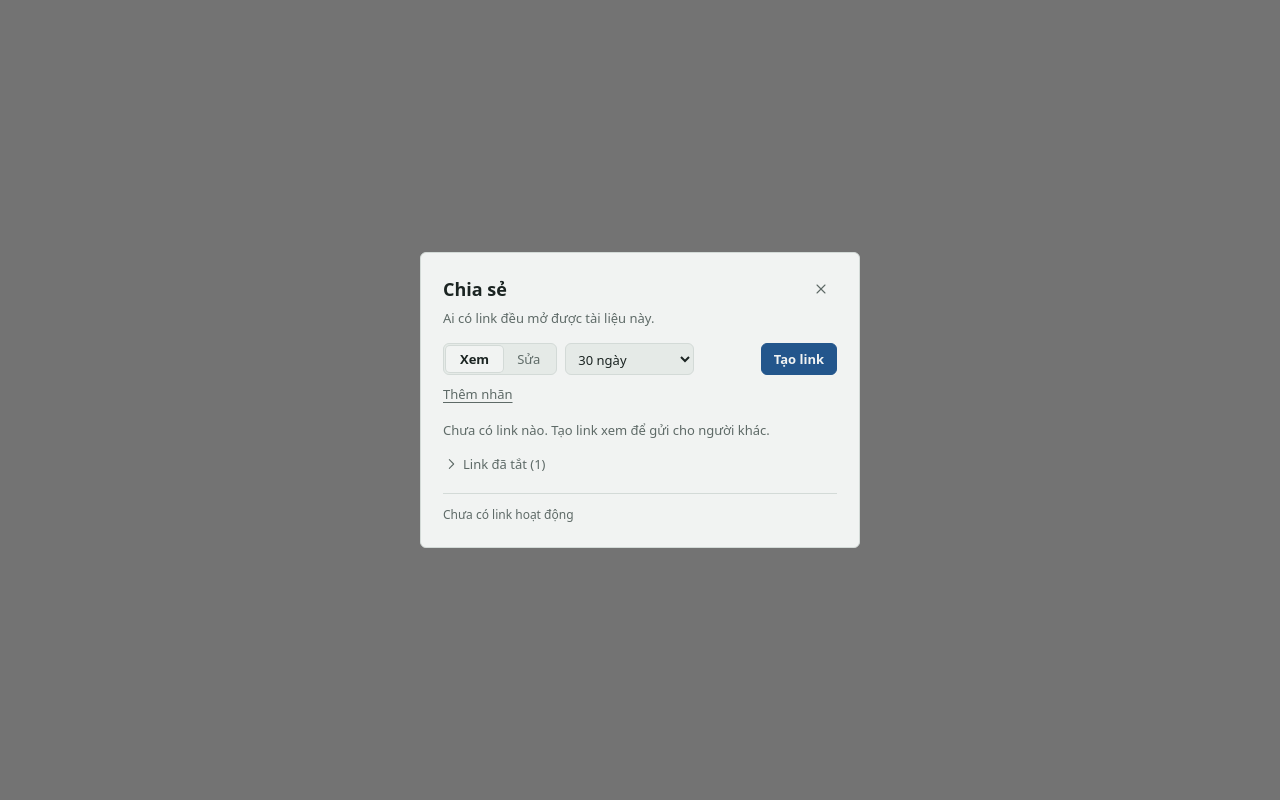
Test: ShareModal › 9i.1 redesigned list › revoked hidden until disclosure opened; then dimmed without buttons
Check: the text "Chưa có link nào. Tạo link xem để gửi cho người khác." is shown, box [443,421,770,439]
Click the button "Link đã tắt (1)" at (494, 464), box [443,451,546,477]
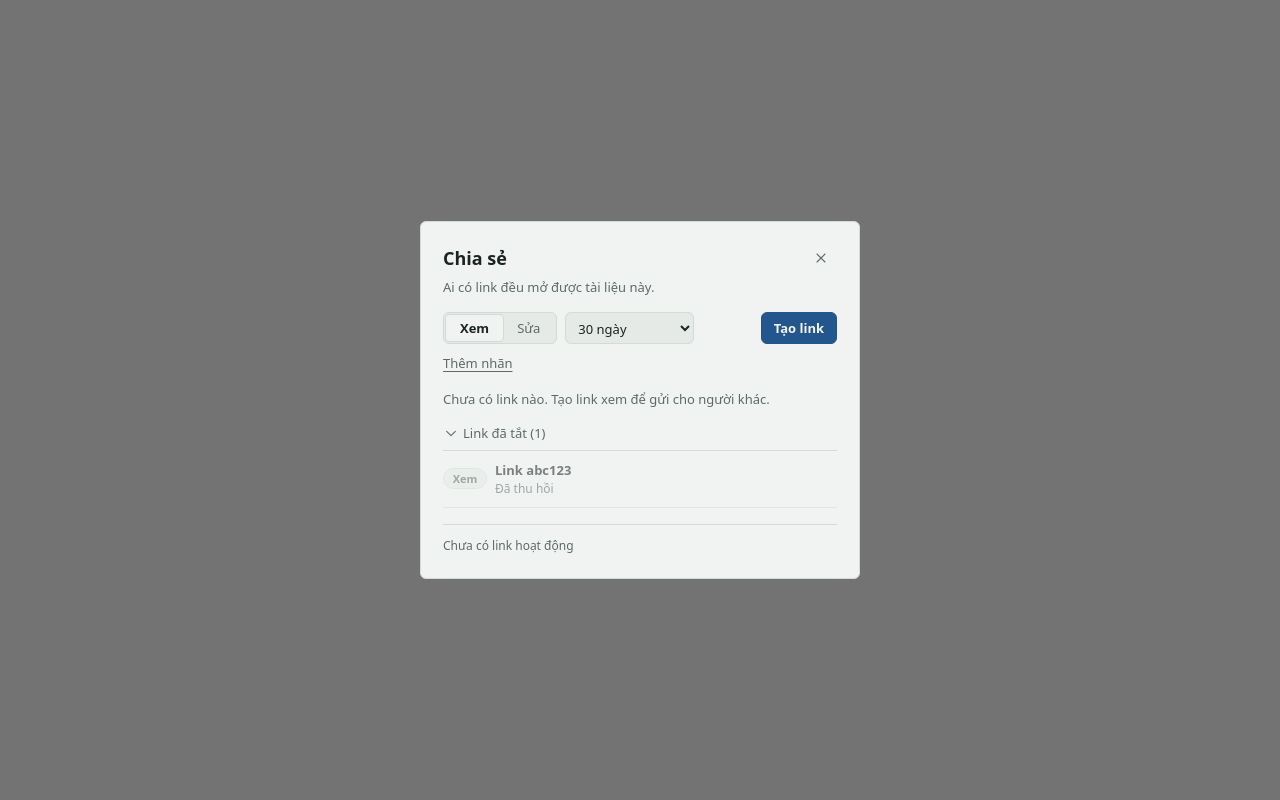
Check: the list item "Xem Link abc123 Đã thu hồi" is shown, box [443,451,837,508]
